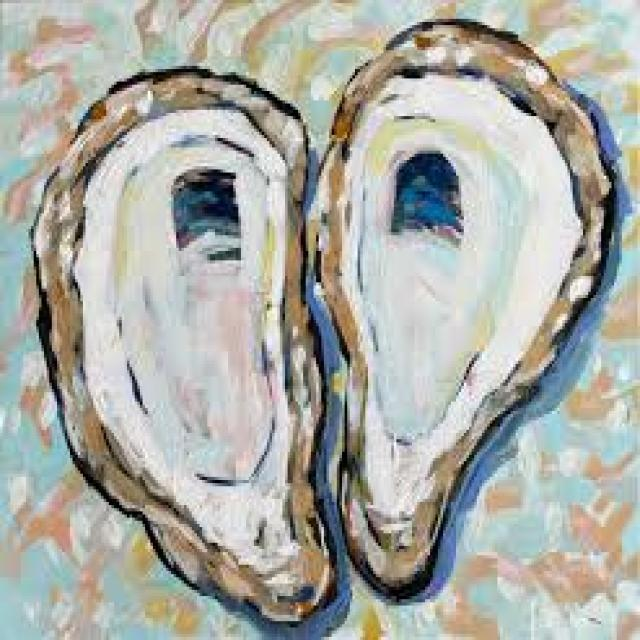Oyster-Open: (20, 60, 336, 638)
